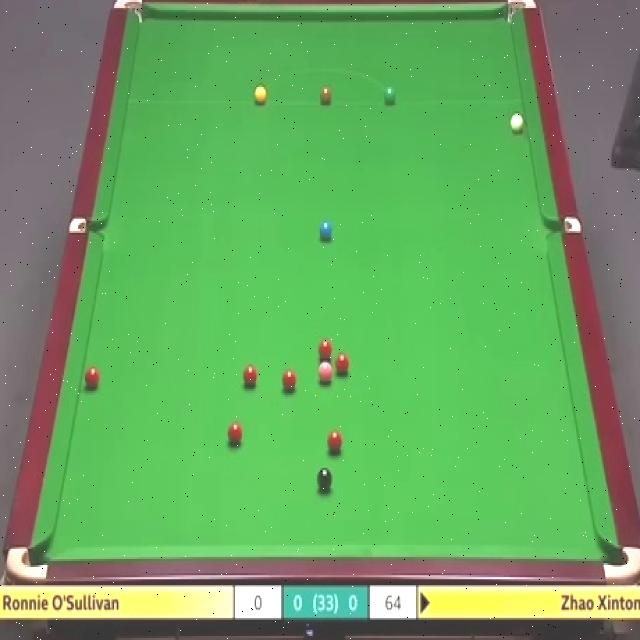black-ball: (318, 468, 332, 492)
blue-ball: (321, 220, 333, 238)
brown-ball: (319, 86, 334, 104)
green-ball: (382, 83, 398, 106)
pink-ball: (318, 360, 333, 384)
red-ball: (228, 420, 242, 446), (328, 429, 343, 453), (242, 364, 258, 386), (319, 338, 333, 360), (282, 370, 296, 392), (336, 351, 349, 374), (85, 367, 99, 388)
white-ball: (509, 110, 525, 138)
yellow-ball: (254, 84, 266, 104)
